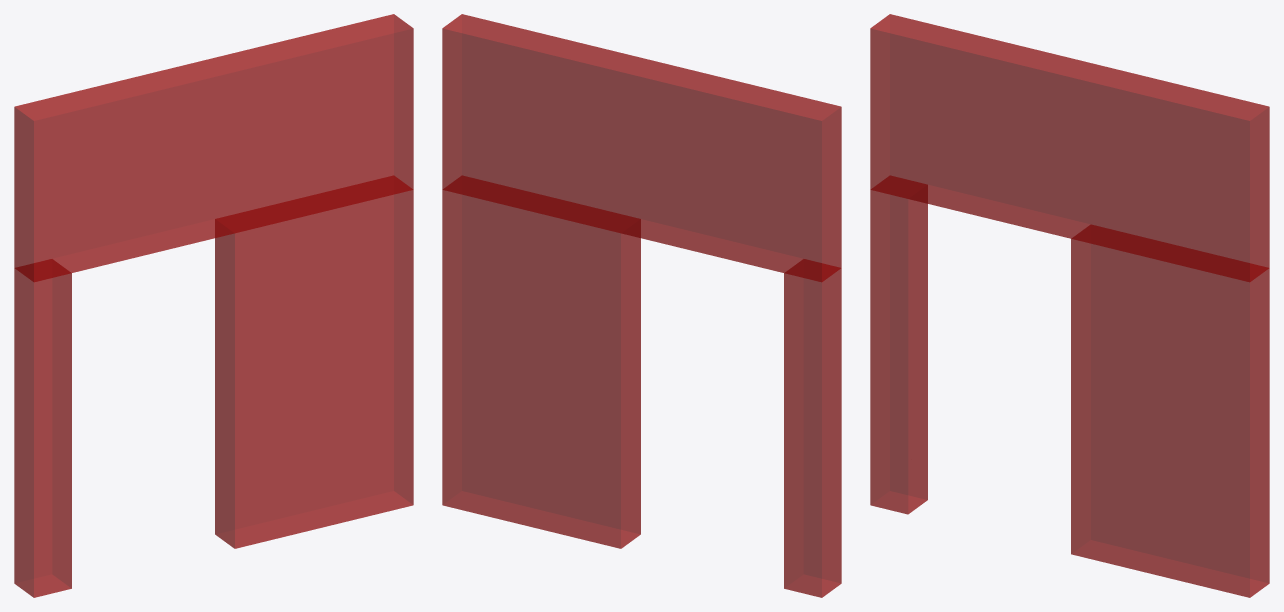
The model's file is SM_Bld_ShopFront_06_Collision.fbx.
The picture shows the model from 3 angles, left to right: view 1: azimuth 30°, elevation 25°; view 2: azimuth 150°, elevation 25°; view 3: azimuth 330°, elevation 25°; orthographic projection.
Parts seen in each view (by area): view 1: SM_Bld_ShopFront_06_Collision; view 2: SM_Bld_ShopFront_06_Collision; view 3: SM_Bld_ShopFront_06_Collision.
Boxes of the visible parts, x1,y1,x2,y2 form: SM_Bld_ShopFront_06_Collision: (14,14,413,597); SM_Bld_ShopFront_06_Collision: (442,14,841,597); SM_Bld_ShopFront_06_Collision: (870,14,1269,597).
Bounding box in the file's own units: 250 × 300 × 22.5.
